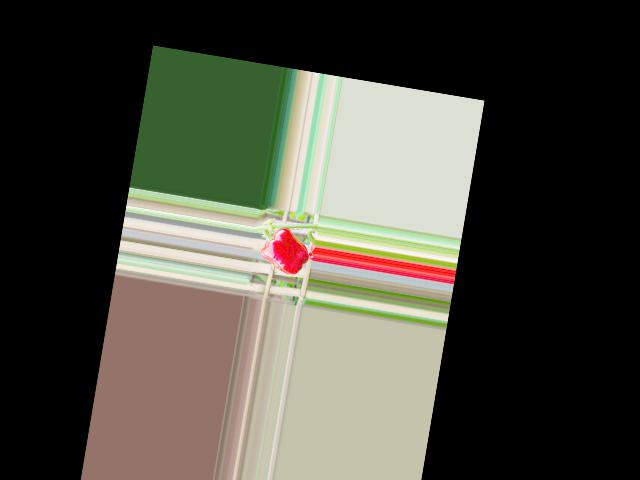bell_pepper: (257, 221, 312, 280)
